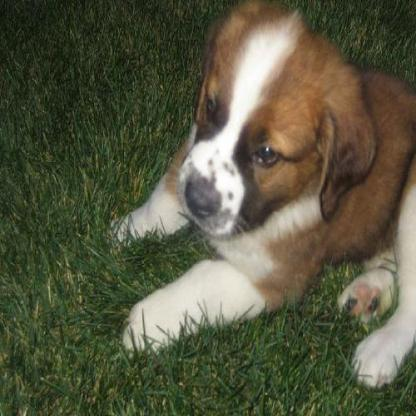Saint_Bernard: (106, 0, 414, 388)
